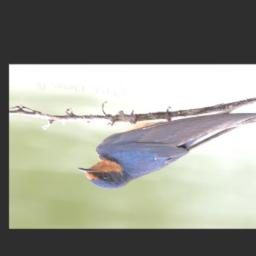Swallow: (74, 98, 256, 202)
